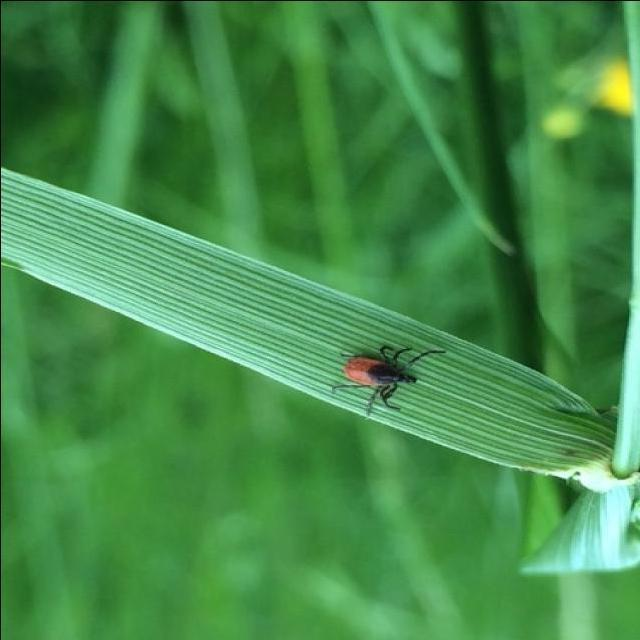Ixodes Ricinus-F: (338, 334, 445, 407)
